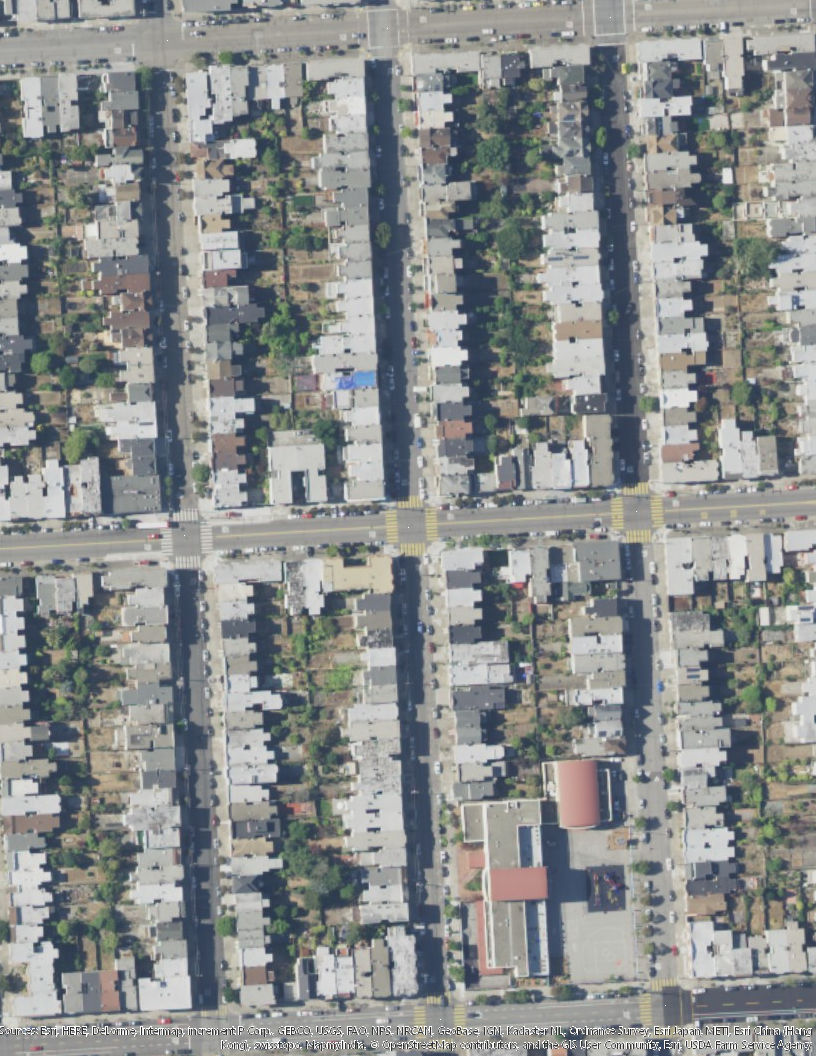zebracross: (637, 995, 654, 1027), (386, 511, 400, 547), (648, 979, 681, 994), (425, 509, 439, 542), (623, 481, 651, 497), (171, 508, 200, 523), (611, 497, 624, 530), (402, 542, 428, 558), (161, 526, 174, 557), (651, 497, 663, 530), (201, 521, 213, 553), (175, 556, 202, 570), (397, 496, 424, 510), (425, 991, 449, 1006), (627, 530, 652, 544), (413, 1007, 425, 1028), (453, 1005, 464, 1027)
